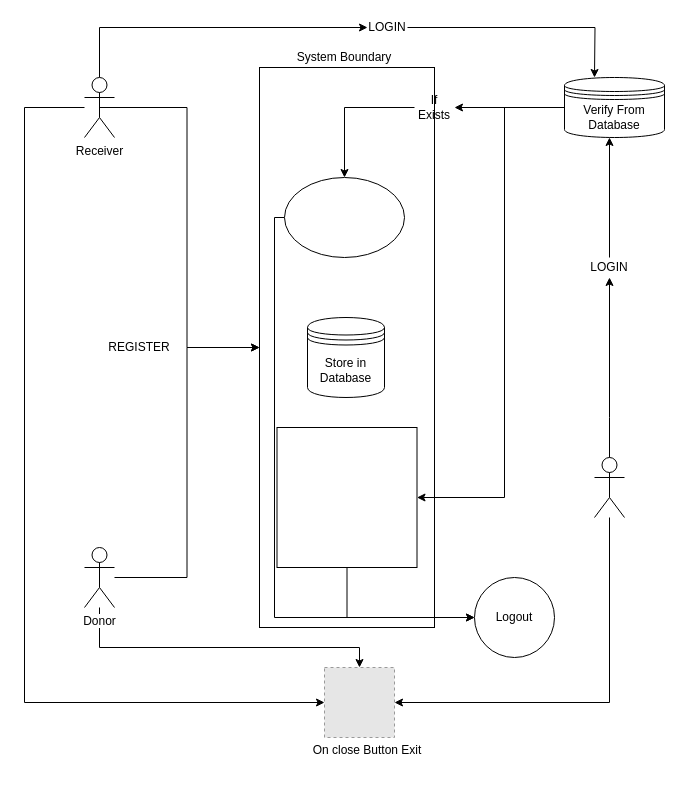
Image size: 682x789. Some labels were removed from this diagram. Grey dashed boxes stand in for pictures. The box of each missing label's shape, as (x1, y1, x2, y2) in pixels:
Admin: (594, 456, 624, 518)
Show Position in waiting List: (284, 176, 404, 258)
View Registration Data or Delete Records: (276, 426, 417, 568)
